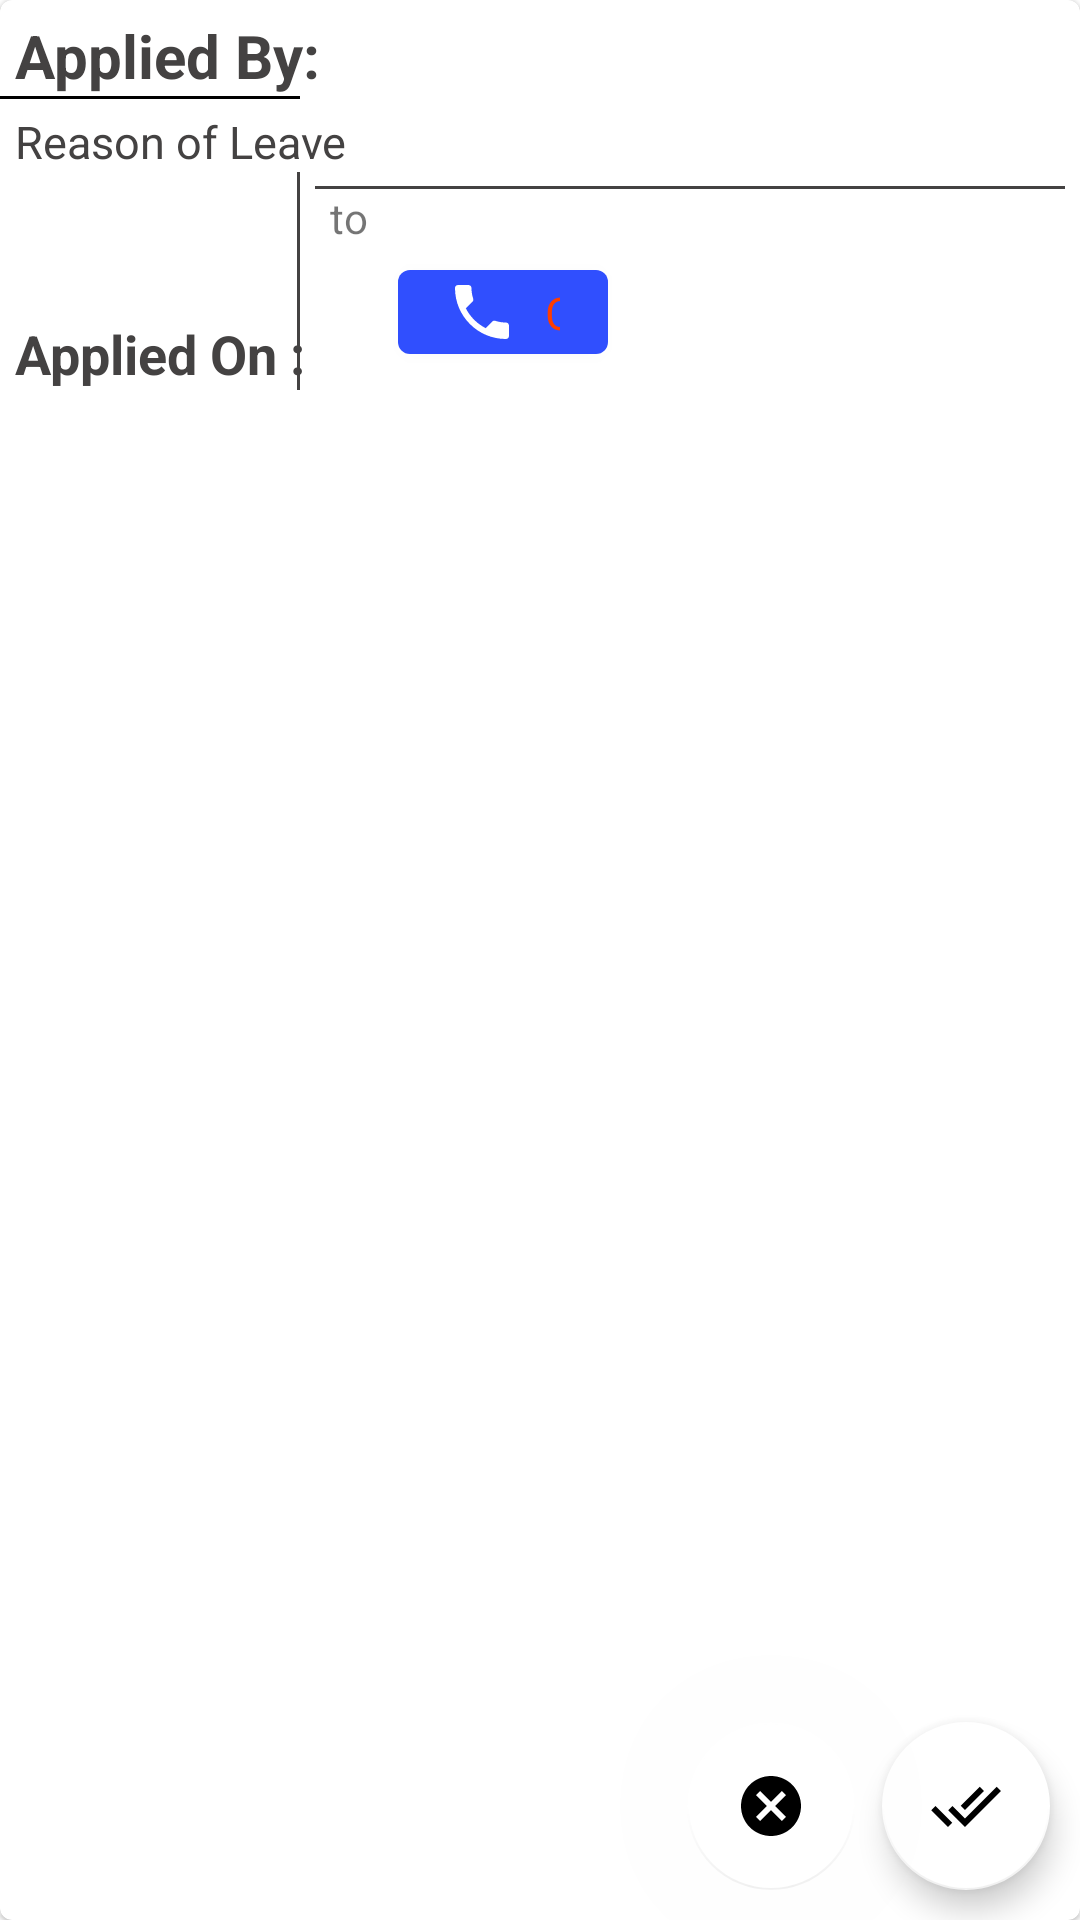

Named icons in this screenshot (1080w x 1920h) and their bounding boxes, bbox=(x1, y1, x2, y2):
reject: bbox=(741, 1776, 801, 1836)
